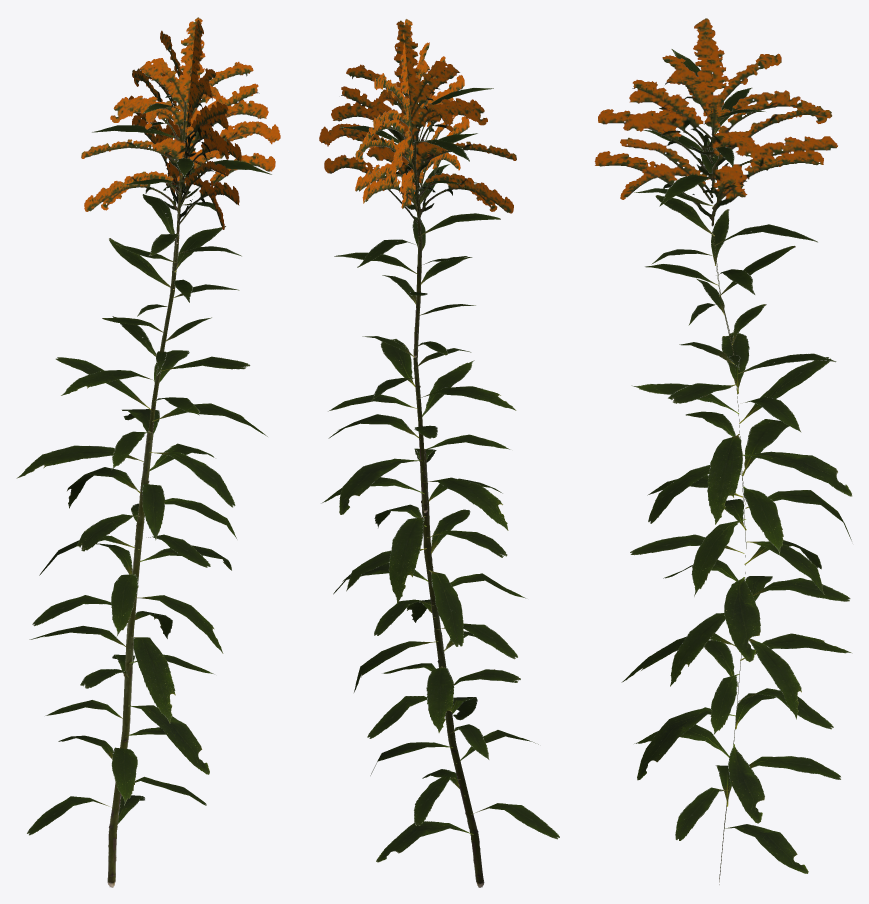
The model's file is GoldenRodFlowerMedDetail.fbx.
3 views of the same model, side by side, from view 1: azimuth 30°, elevation 25°; view 2: azimuth 150°, elevation 25°; view 3: azimuth 270°, elevation 25° (orthographic). The views are drawn at different scales.
Parts seen in each view (by area): view 1: Med; view 2: Med; view 3: Med.
Boxes of the visible parts, x1=… form: Med: x1=16, y1=17, x2=280, y2=887; Med: x1=319, y1=19, x2=559, y2=887; Med: x1=594, y1=18, x2=852, y2=884.
Size of the model in its own units: 53.91 by 174 by 45.58.
